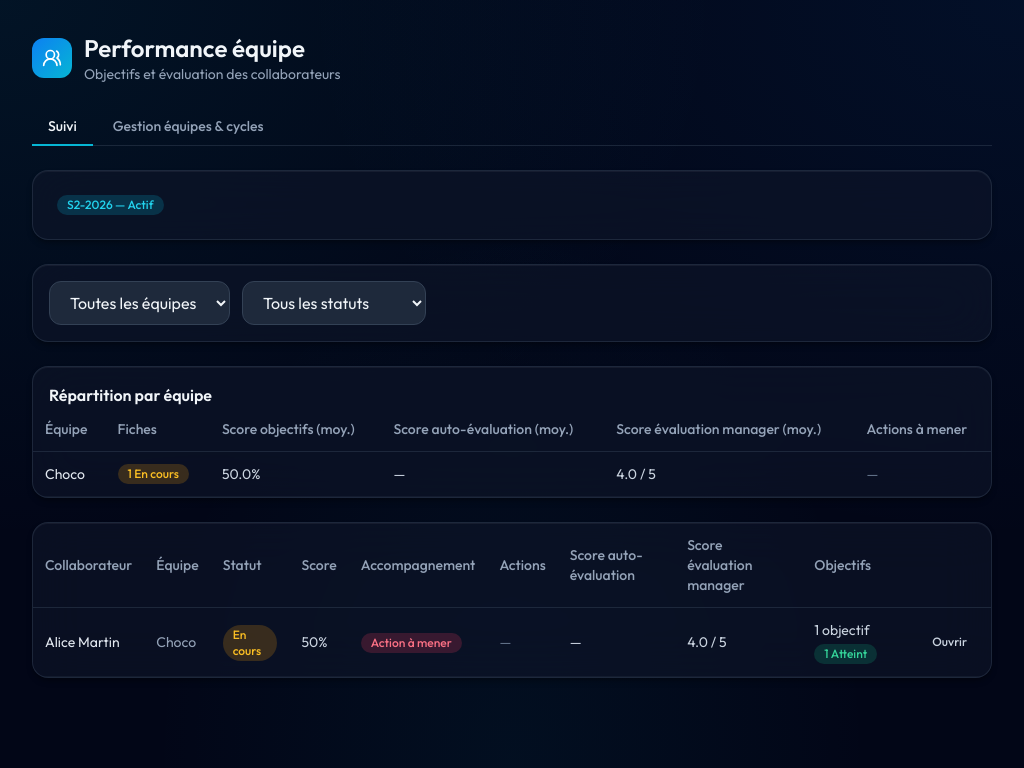
Scenario: TeamPerformancePage › valide le semestre via le CTA dédié, sans enregistrer l’évaluation
Check: the text "Alice Martin" is shown, box [33,608,144,676]
Click the button "Ouvrir": (950, 642) [920,628,979,656]
(page scrolled)
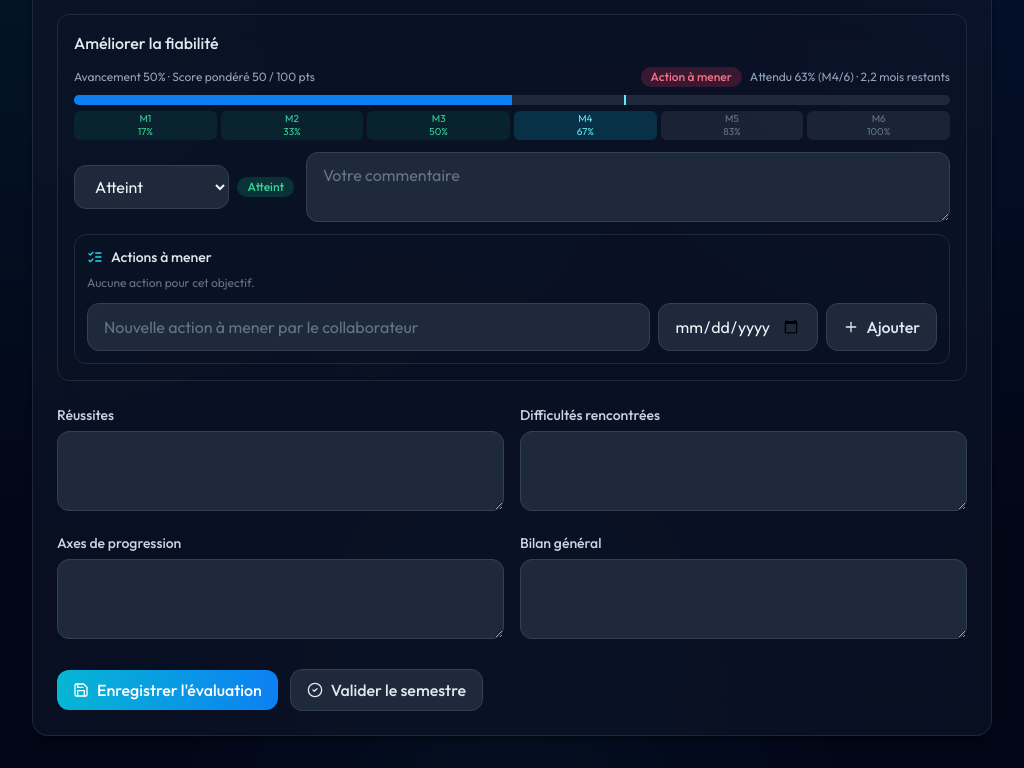
Check: the button "Valider le semestre" is enabled
Click the button "Valider le semestre": (386, 690) [290,669,483,711]
(page scrolled)
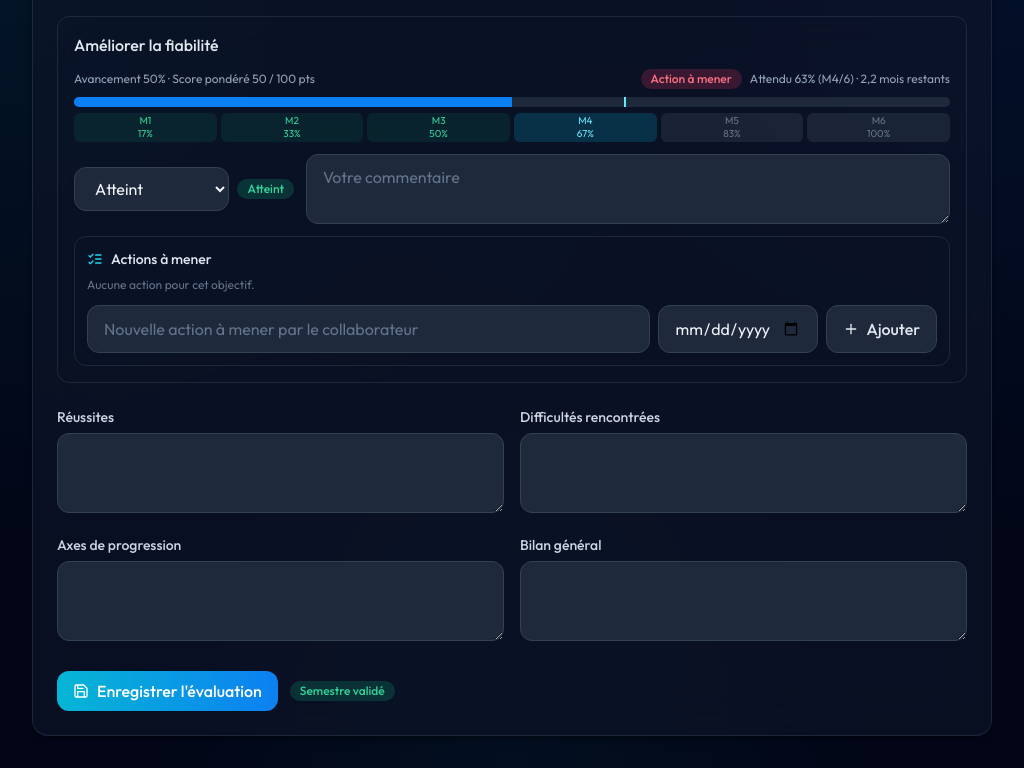
Check: the text "Semestre validé" is shown, box [290,681,395,701]
